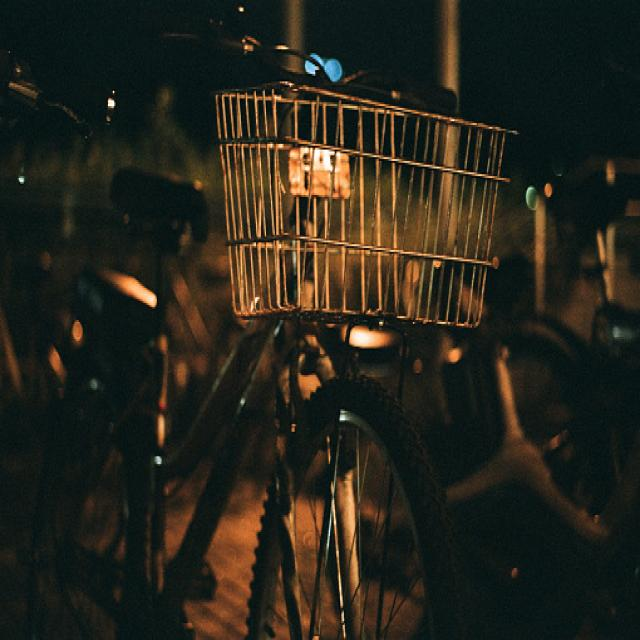Bicycle: (40, 180, 450, 640), (321, 110, 640, 513)
